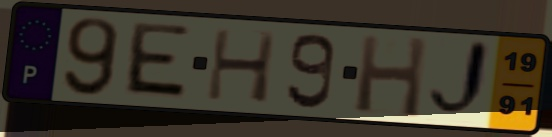9: (62, 15, 121, 99), (286, 32, 338, 109)
E: (119, 19, 194, 103)
H: (353, 32, 430, 121), (203, 26, 280, 106)
J: (424, 37, 493, 123)
